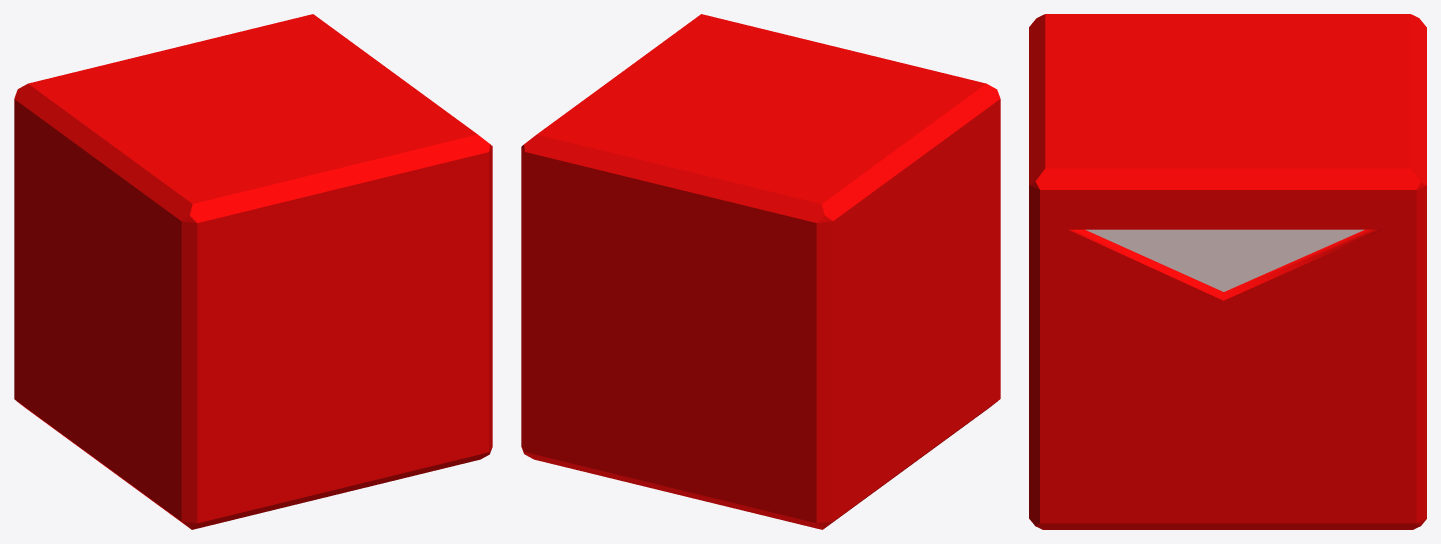
Rendered from LBlock.glb.
3 views of the same model, side by side, from view 1: azimuth 30°, elevation 25°; view 2: azimuth 150°, elevation 25°; view 3: azimuth 270°, elevation 25° (orthographic). The views are drawn at different scales.
Visible parts, largest first — view 1: Cube; view 2: Cube; view 3: Cube.
Boxes of the visible parts, x1,y1,x2,y2 form: Cube: (14, 14, 492, 529); Cube: (521, 14, 1000, 529); Cube: (1029, 14, 1426, 529).
Size of the model in its own units: 2 by 2 by 2.
1 material, 1 textured.
